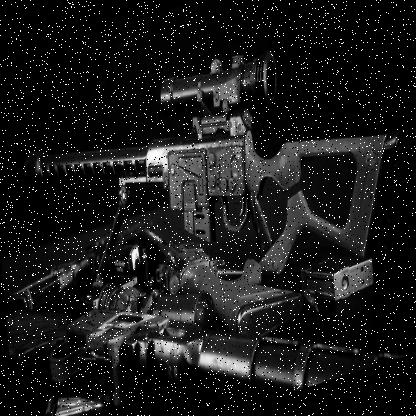rifle: (22, 20, 402, 366)
